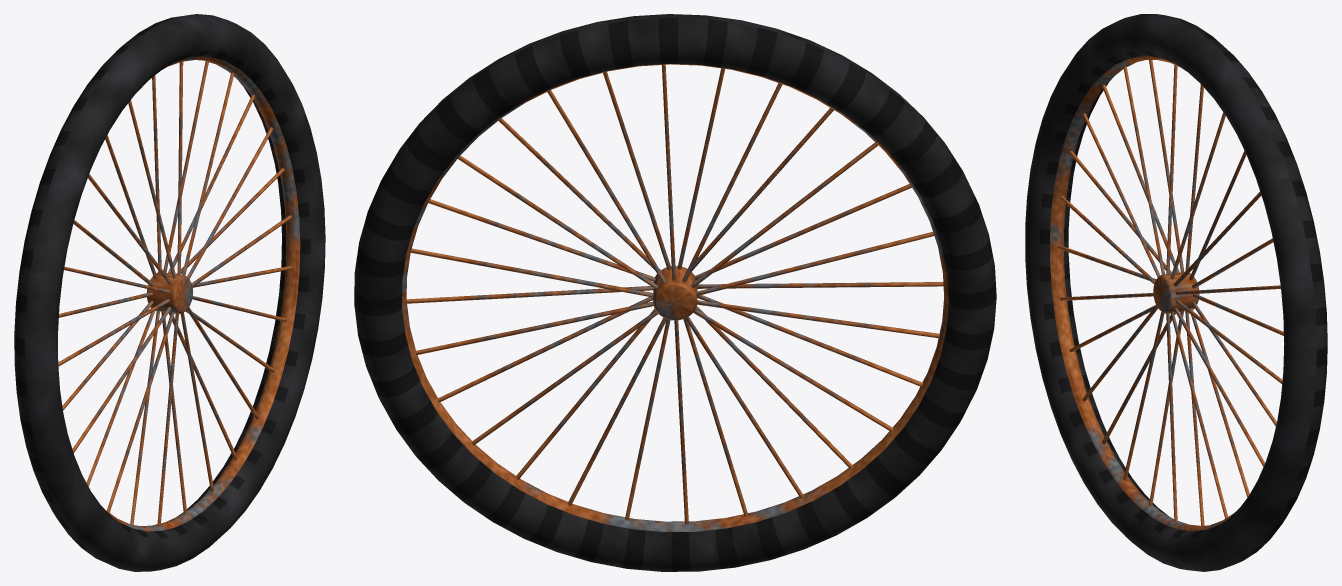
The model's file is bicycle_wheel.gltf.
3 views of the same model, side by side, from view 1: azimuth 30°, elevation 25°; view 2: azimuth 150°, elevation 25°; view 3: azimuth 270°, elevation 25° (orthographic). The views are drawn at different scales.
Visible parts, largest first — view 1: bicycle_wheel; view 2: bicycle_wheel; view 3: bicycle_wheel.
Boxes of the visible parts, left/top/right/bottom form: bicycle_wheel: left=14, top=14, right=325, bottom=571; bicycle_wheel: left=354, top=14, right=996, bottom=571; bicycle_wheel: left=1025, top=14, right=1327, bottom=571.
Size of the model in its own units: 2.03 by 2.29 by 1.24.
Materials: 2 (2 with a texture image).
